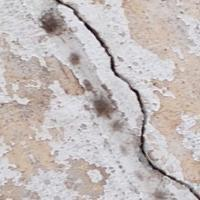crack: (58, 0, 199, 199)
